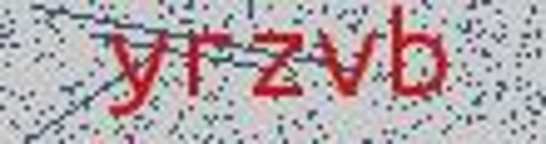b: (381, 5, 452, 113)
r: (181, 20, 237, 113)
v: (313, 18, 377, 113)
y: (97, 23, 173, 130)
z: (244, 22, 307, 113)
